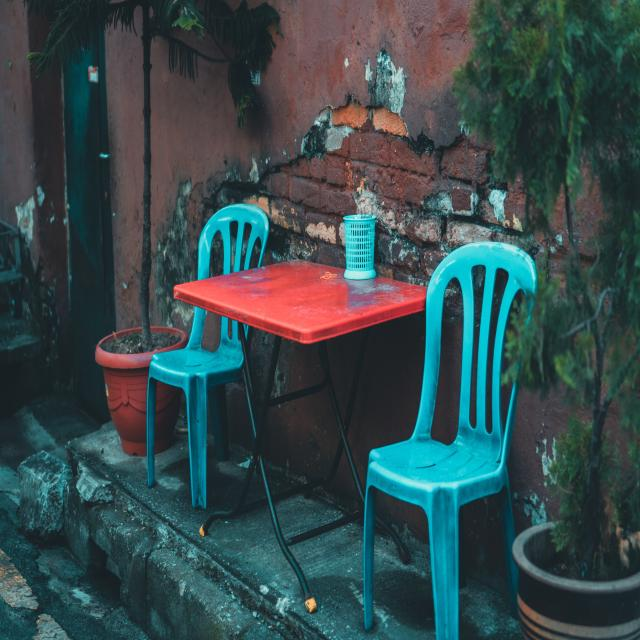Plastic: (359, 218, 533, 636), (130, 204, 269, 518)
